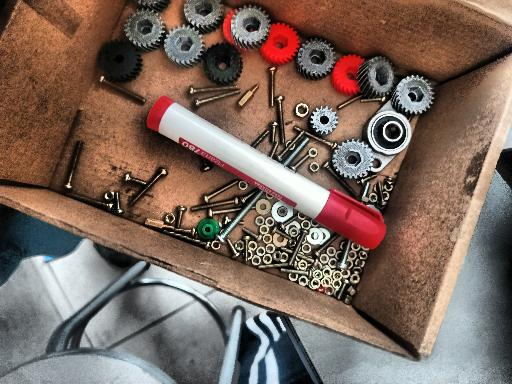marcador rojo: (147, 96, 386, 248)
